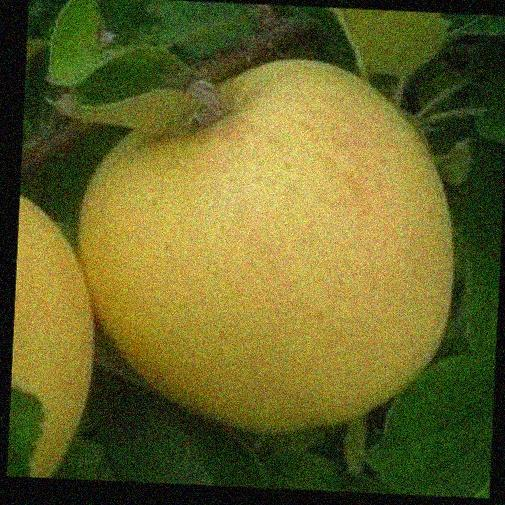green apple: (76, 52, 471, 441)
